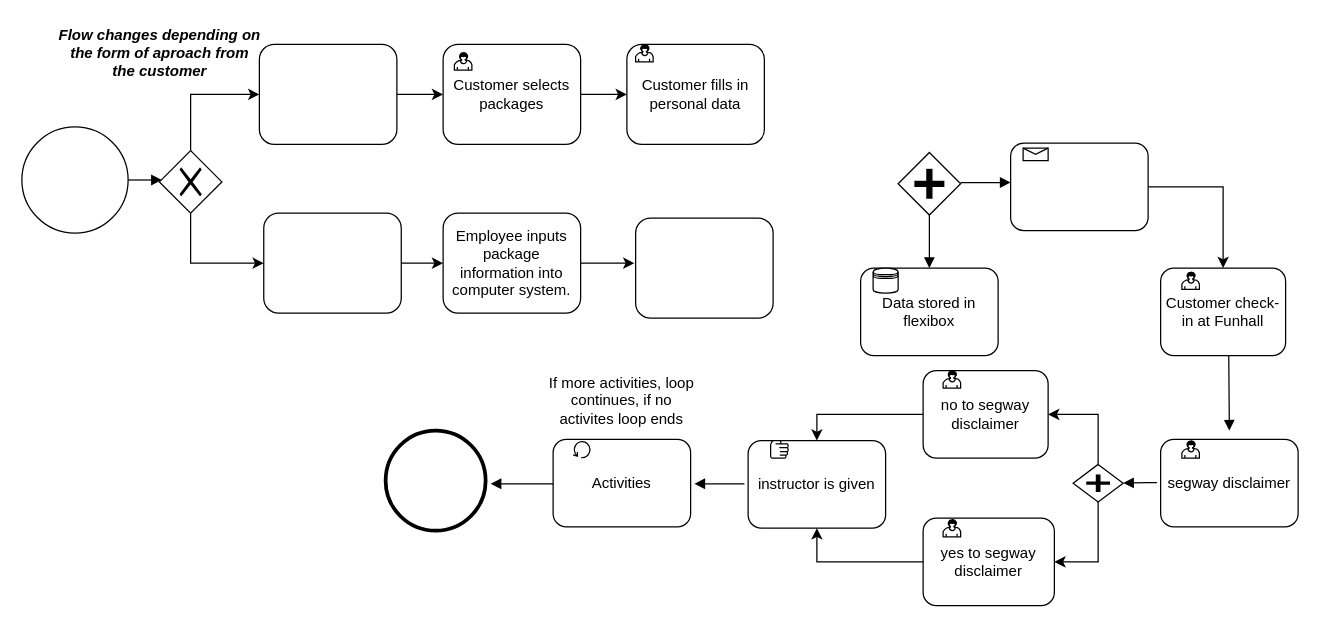
Image size: 1320x628. Some labels were removed from this diagram. The centre of each missing label's shape, as x and y in pixels:
Customer make aproach by phone: point (331, 262)
Customers makes aproach through funhalls website: point (327, 93)
Employee inputs personal into computer system: point (703, 267)
end of day: point (435, 480)
Order confirmation send to customer: point (1078, 186)
